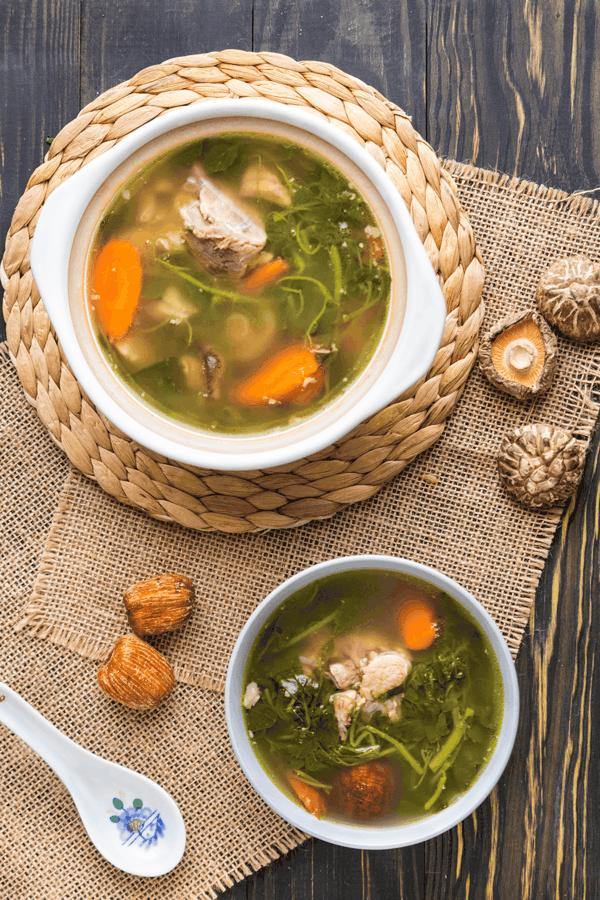Braised Crucian Carp: (31, 99, 438, 467), (223, 557, 511, 852)
